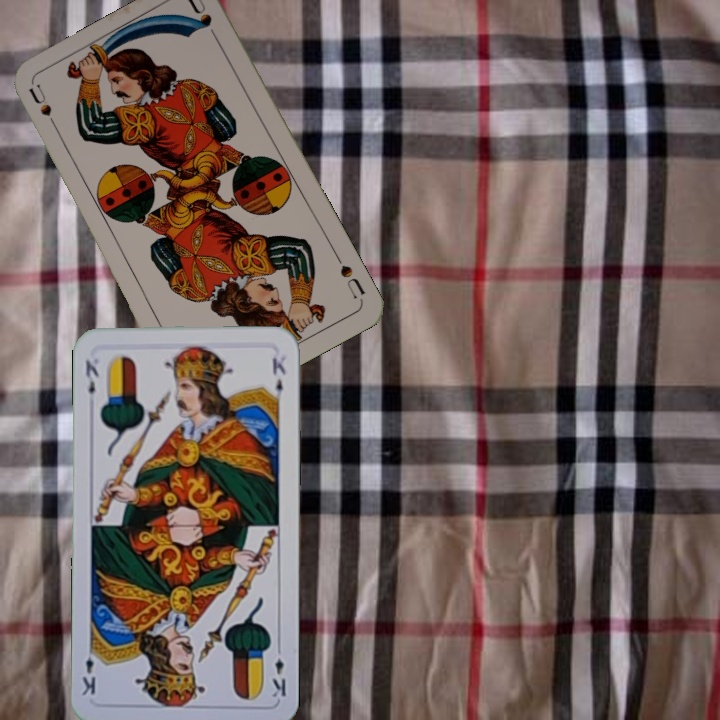EK: (269, 641, 289, 700), (81, 356, 101, 397)
SU: (24, 81, 64, 137), (330, 249, 368, 303)
